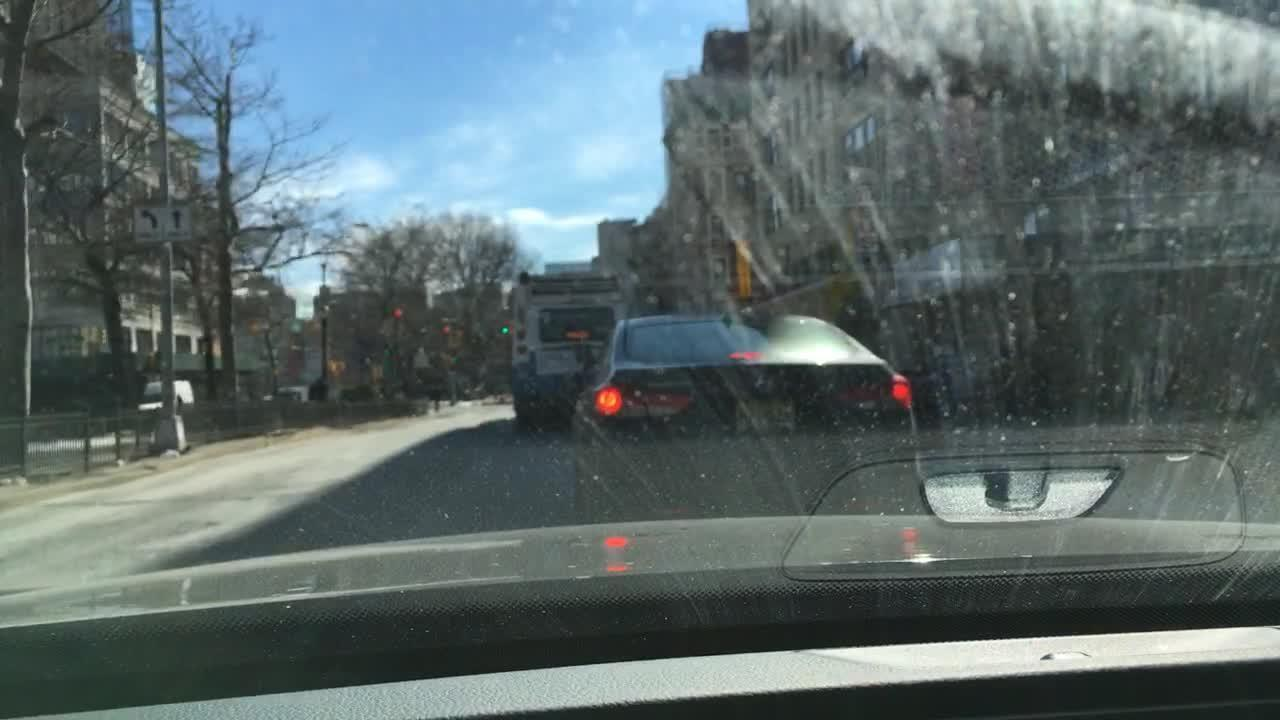Hyundai: (751, 371, 781, 398)
